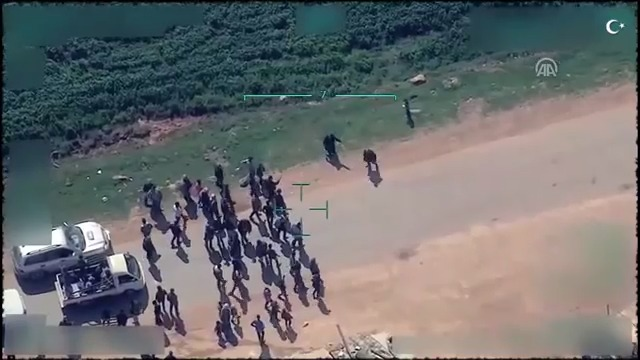arac: (9, 210, 120, 281), (54, 250, 150, 311)
insan: (317, 131, 346, 163), (249, 311, 268, 347), (361, 146, 380, 181), (236, 214, 254, 244), (210, 261, 226, 293), (169, 221, 183, 250), (278, 306, 296, 328), (166, 288, 181, 314), (311, 275, 325, 299), (156, 284, 168, 310)
